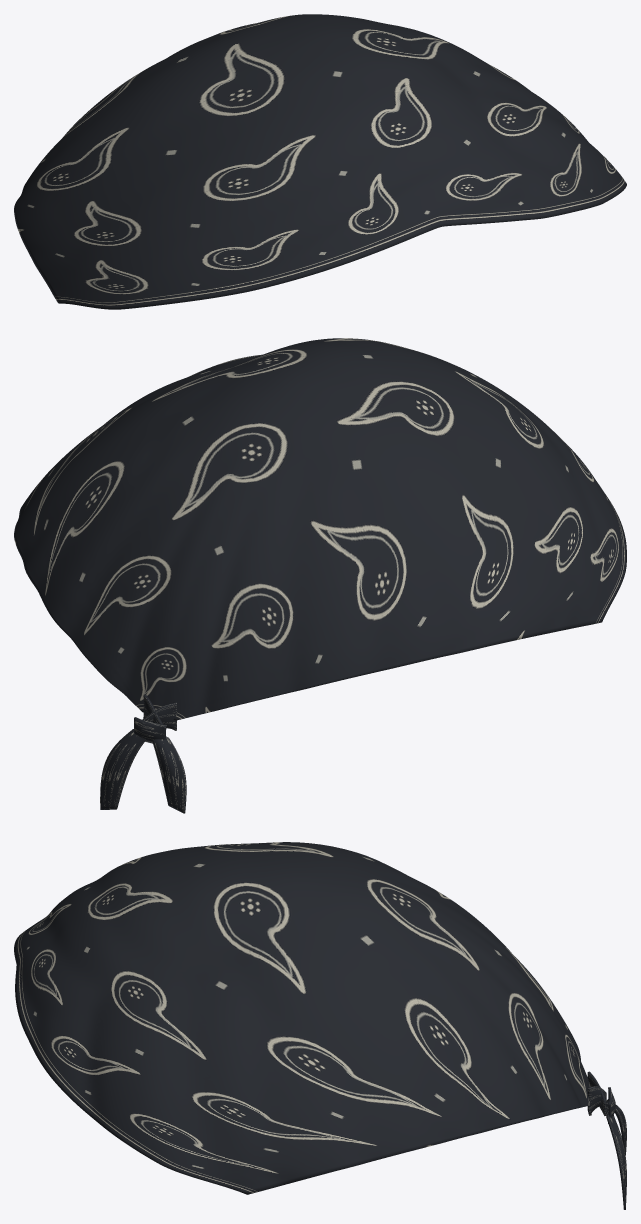
File: Feminine-side-sweep-bandana.glb
The picture shows the model from 3 angles, top to bottom: view 1: azimuth 30°, elevation 25°; view 2: azimuth 150°, elevation 25°; view 3: azimuth 270°, elevation 25°; orthographic projection.
Visible parts, largest first — view 1: Bandana / folded crown scarf; view 2: Bandana / folded crown scarf, Bandana / falling tie 1, Bandana / falling tie -1; view 3: Bandana / folded crown scarf, Bandana / falling tie 1.
Part boxes in pixels (x1,y1,x2,y2): Bandana / folded crown scarf: [14, 14, 626, 309]; Bandana / folded crown scarf: [14, 338, 626, 720]; Bandana / falling tie 1: [100, 729, 145, 809]; Bandana / falling tie -1: [152, 736, 186, 813]; Bandana / folded crown scarf: [14, 842, 591, 1194]; Bandana / falling tie 1: [606, 1100, 626, 1209].
Size of the model in its own units: 0.7564 by 0.4191 by 0.725.
Materials: 1 (1 with a texture image).
